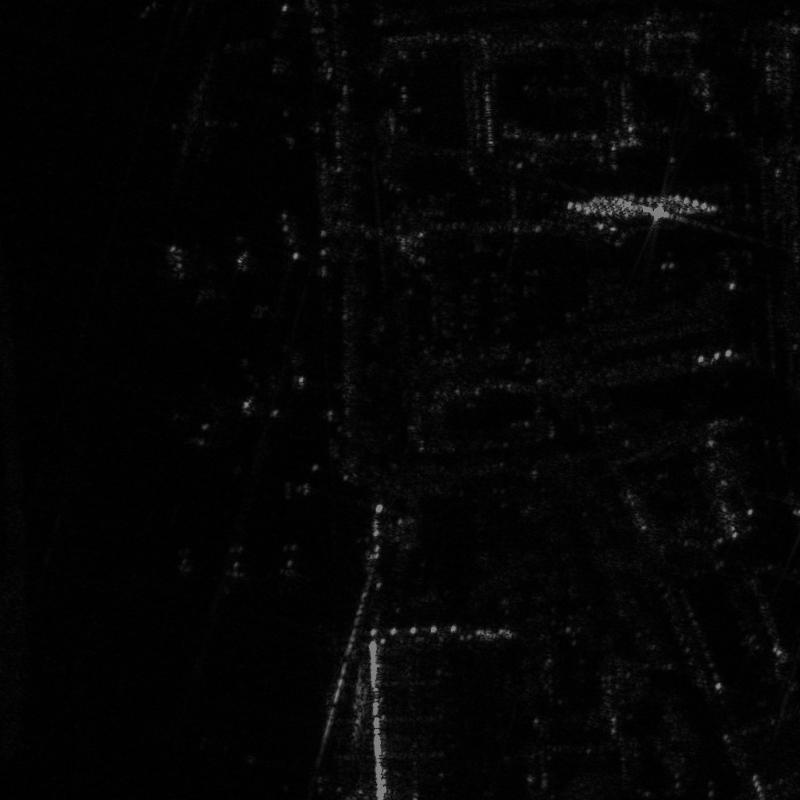ARJ21: (156, 225, 262, 308)
other: (147, 362, 264, 458)
